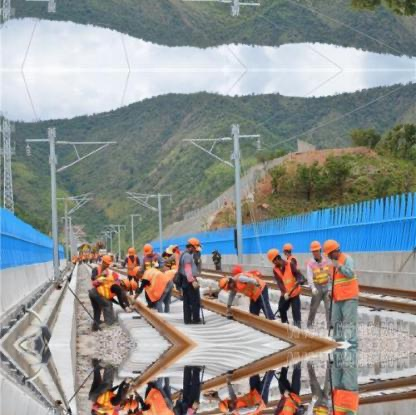Safety Helmet: (323, 236, 343, 260), (183, 236, 203, 253), (218, 277, 240, 292), (265, 247, 280, 265), (141, 239, 155, 258), (125, 246, 140, 262), (99, 252, 113, 269), (310, 240, 322, 258), (282, 241, 294, 256), (130, 266, 144, 278)
